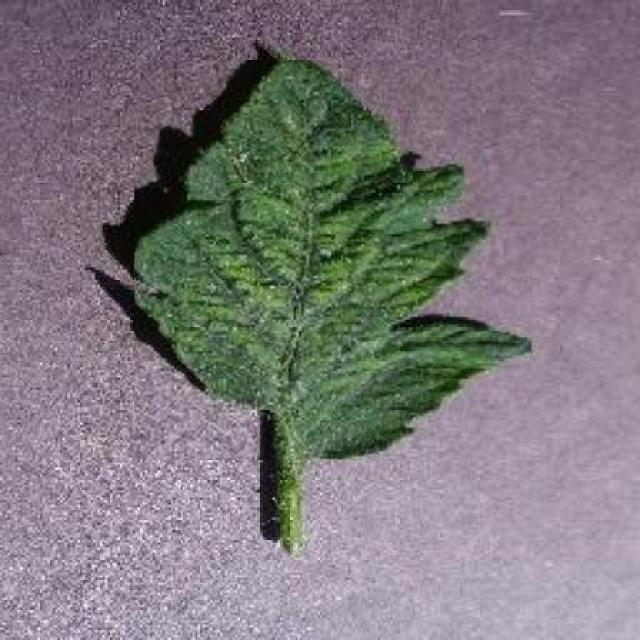Mosaic Virus: (135, 60, 531, 460)
